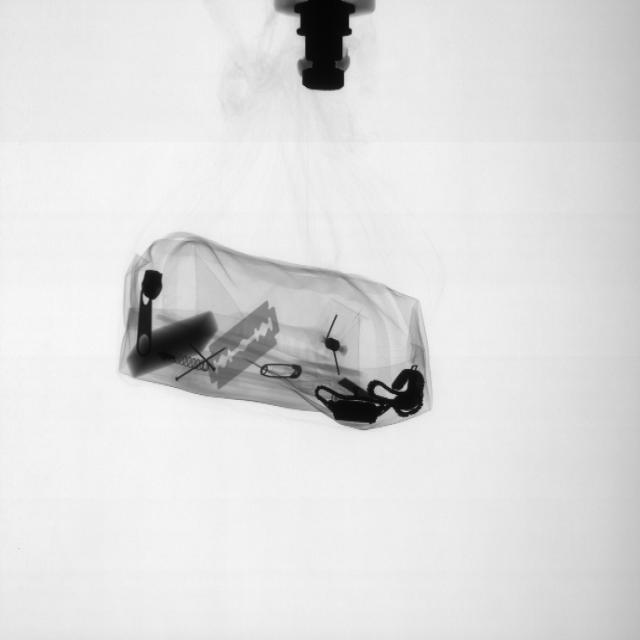BLADE: (206, 301, 283, 393)
